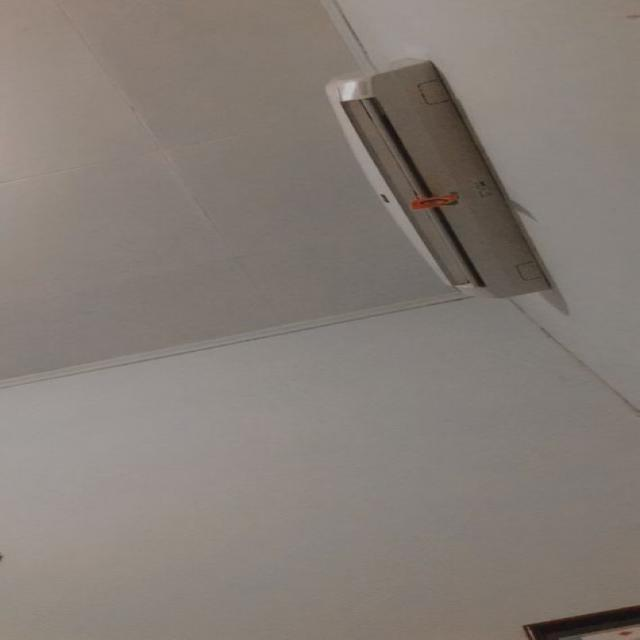AC: (323, 56, 552, 300)
